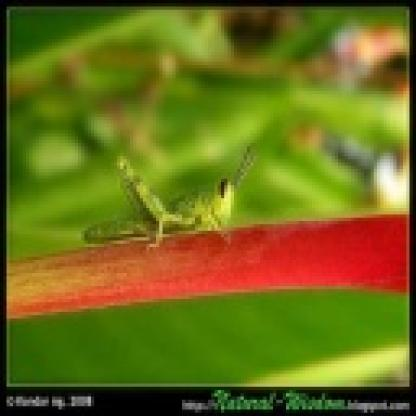grasshopper: (82, 154, 266, 252)
